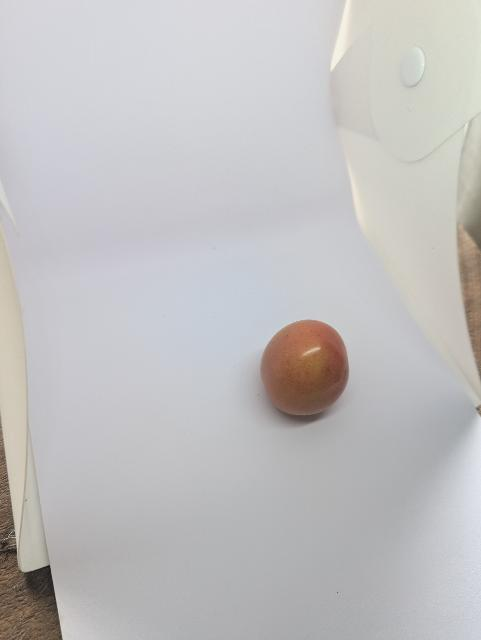turning: (252, 317, 365, 423)
